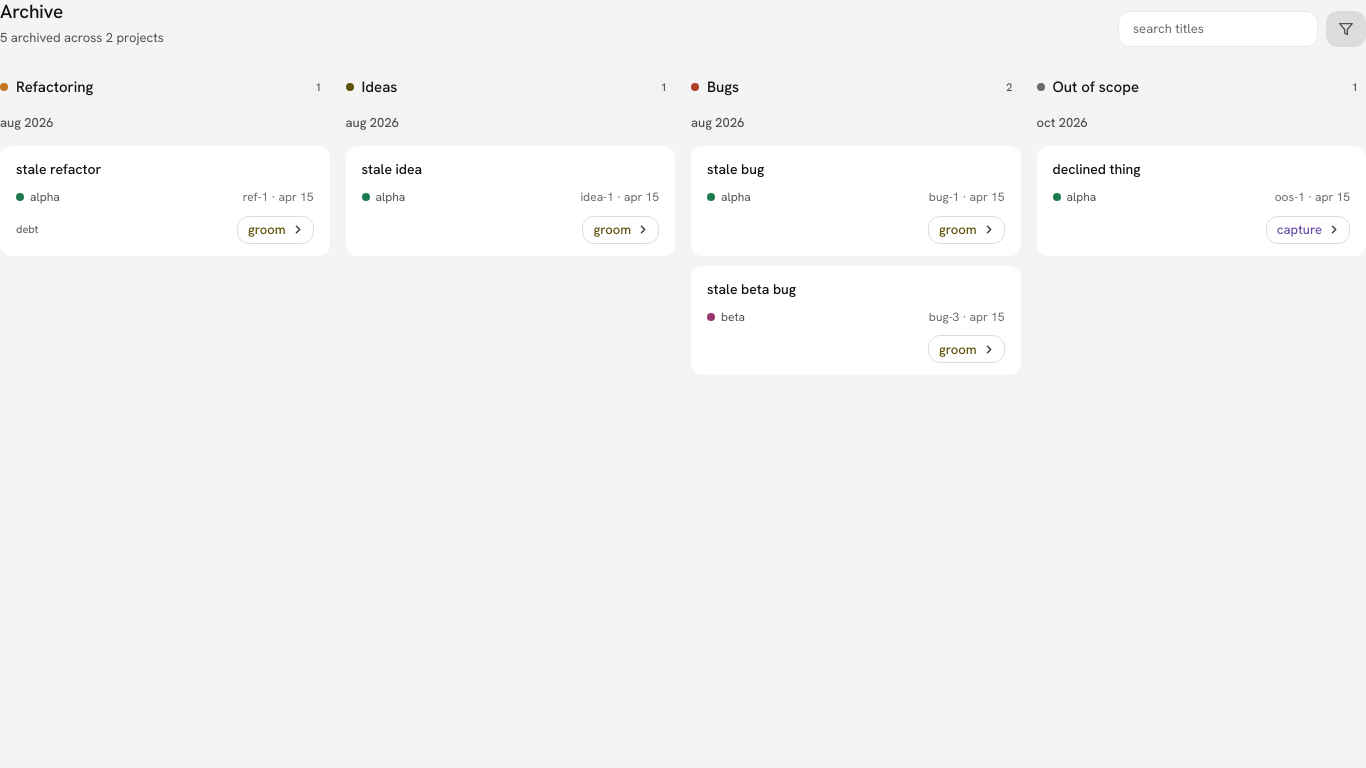
Test: ArchiveView › offers search and the Filters button, and neither a sort control nor a Status group
Expected: the search field named "Search items" is shown, [1118,11,1318,47]
Click the button named "Filters": (1346, 29) [1329,14,1363,44]
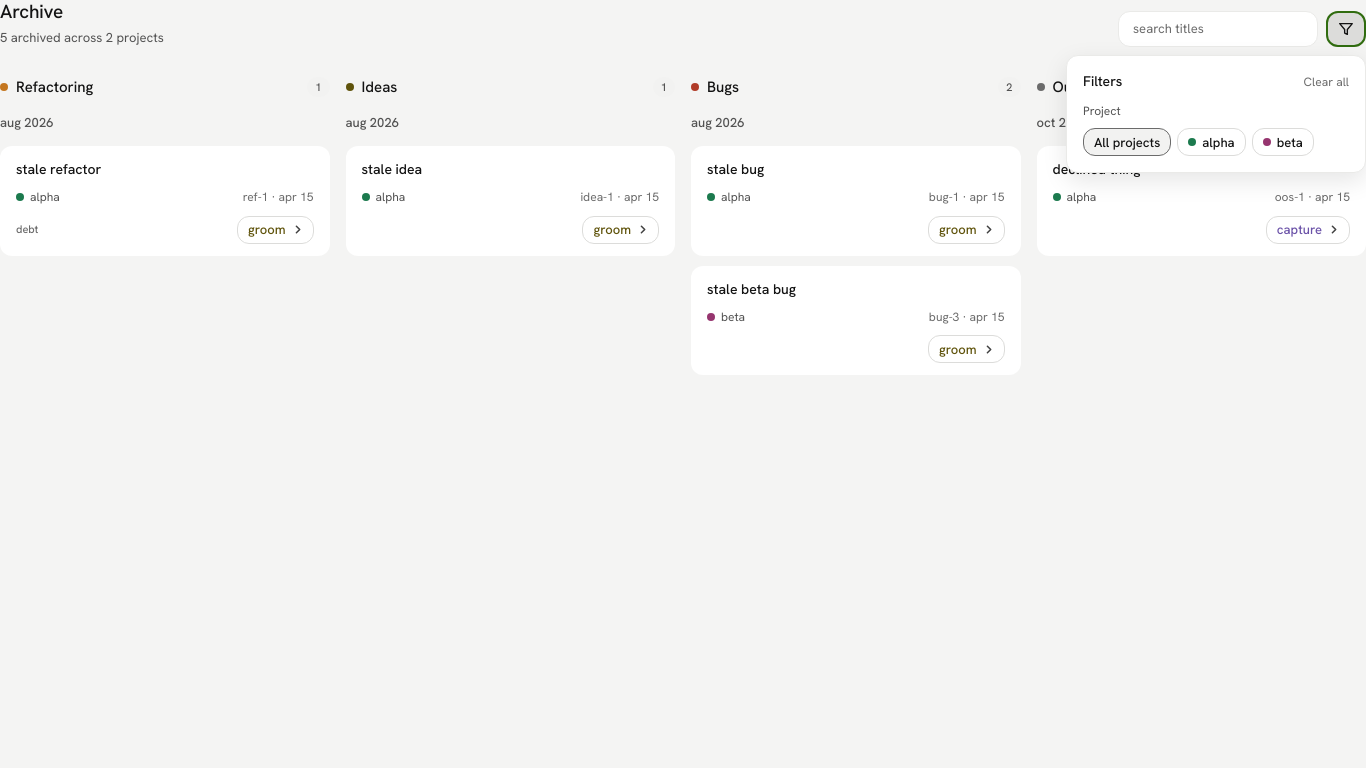
Expected: the element "project" is shown, [1083,128,1349,156]
Expected: the element showing "Project" is shown, [1083,104,1121,120]
